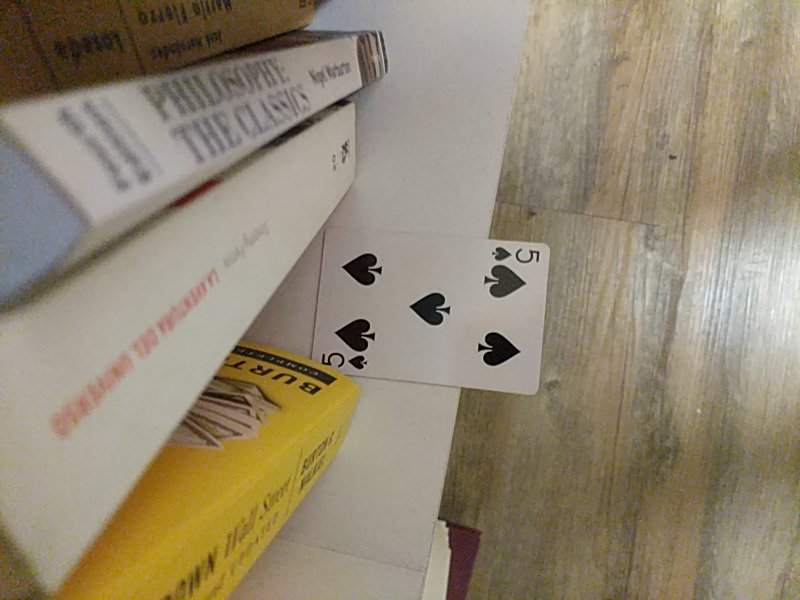Spades: (305, 225, 548, 396)
